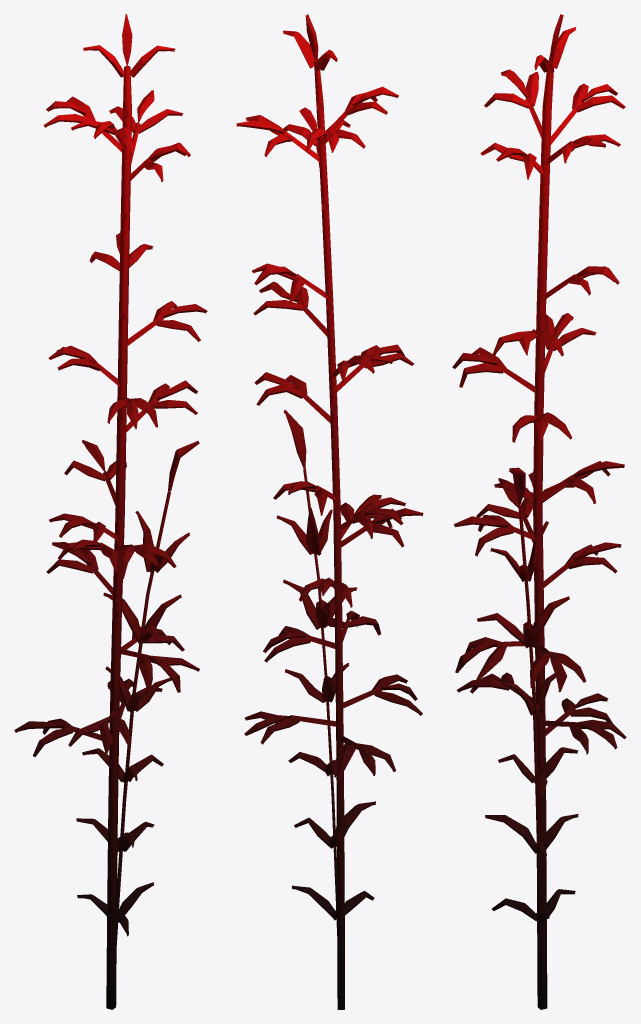
Rendered from TreeBamboo06.fbx.
3 views of the same model, side by side, from view 1: azimuth 30°, elevation 25°; view 2: azimuth 150°, elevation 25°; view 3: azimuth 270°, elevation 25° (orthographic). The views are drawn at different scales.
Visible parts, largest first — view 1: TreeBamboo06_LOD0; view 2: TreeBamboo06_LOD0; view 3: TreeBamboo06_LOD0.
Boxes of the visible parts, x1,y1,x2,y2 form: TreeBamboo06_LOD0: (14, 14, 207, 1009); TreeBamboo06_LOD0: (236, 14, 423, 1009); TreeBamboo06_LOD0: (452, 14, 626, 1009).
Size of what is drawn, in the model's own units: 106 by 640 by 101.
